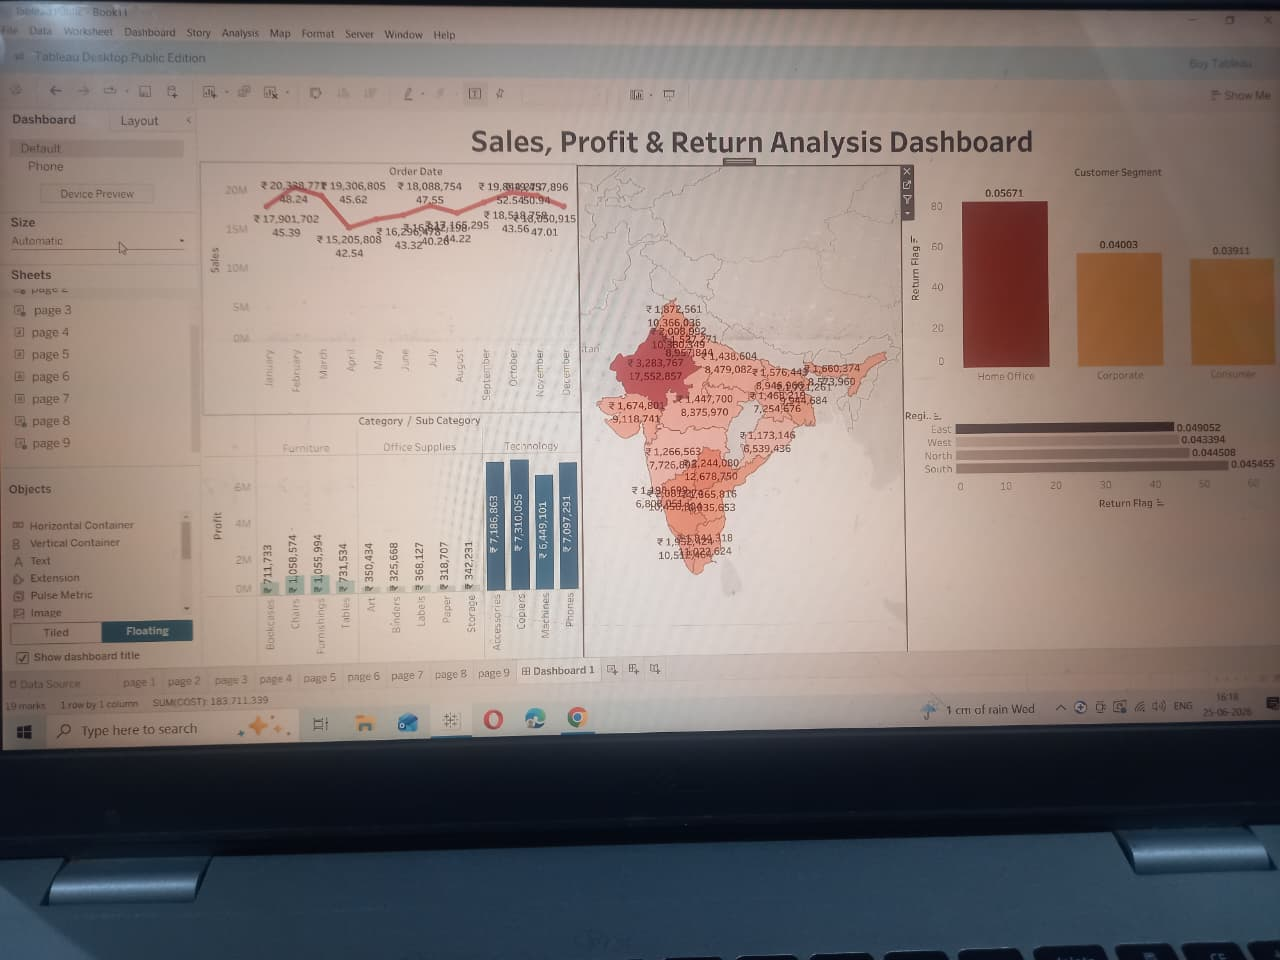

This screenshot's page, from the dashboard's own definition file:
{"tool":"tableau","page":{"name":"Dashboard 1","canvas":[1000,1000],"units":"permille","ordinal":0},"visuals":[{"type":"title","box":[4.9,9.9,990.2,81.4]},{"type":"worksheet","title":"page 1","mark":"Automatic","rows":["sales"],"cols":["order_date"],"box":[3.1,96.2,332.9,452.5]},{"type":"worksheet","title":"page 8","mark":"Automatic","rows":["return_flag"],"cols":["customer_segment"],"box":[635.9,98.6,361,425.4]},{"type":"worksheet","title":" page 3","mark":"Automatic","rows":["profit"],"cols":["category","sub_category"],"box":[3.1,549.9,333.5,450.1]},{"type":"worksheet","title":"page 9","mark":"Automatic","rows":["region"],"cols":["return_flag"],"box":[633.5,551.2,364.1,439]}]}

Visuals, with their boxes on the dashboard's canvas, which has no fixed pixel size, in thousandths of its width and height (x1, y1, x2, y2). These are canvas units, not pixel positions in the 1280x960 screenshot, which may show the page scaled, cropped or inside an application window:
title: <box>5,10,995,91</box>
"page 1" worksheet: <box>3,96,336,549</box>
"page 8" worksheet: <box>636,99,997,524</box>
" page 3" worksheet: <box>3,550,337,1000</box>
"page 9" worksheet: <box>634,551,998,990</box>
